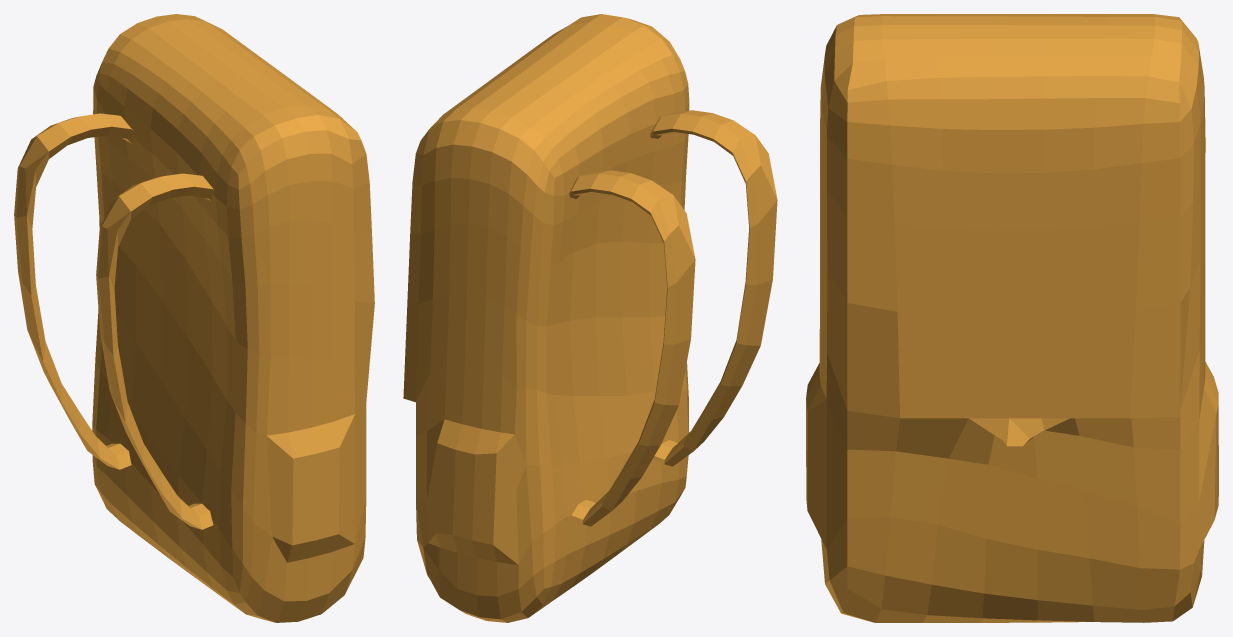
The model's file is paracaidas_low.fbx.
3 views of the same model, side by side, from view 1: azimuth 30°, elevation 25°; view 2: azimuth 150°, elevation 25°; view 3: azimuth 270°, elevation 25° (orthographic). The views are drawn at different scales.
Visible parts, largest first — view 1: Paracaidas_plegado_low; view 2: Paracaidas_plegado_low; view 3: Paracaidas_plegado_low.
Part boxes in pixels (x1,y1,x2,y2): Paracaidas_plegado_low: (14,14,374,622); Paracaidas_plegado_low: (403,14,777,622); Paracaidas_plegado_low: (806,14,1218,622).
Bounding box in the file's own units: 180 × 331 × 211.
